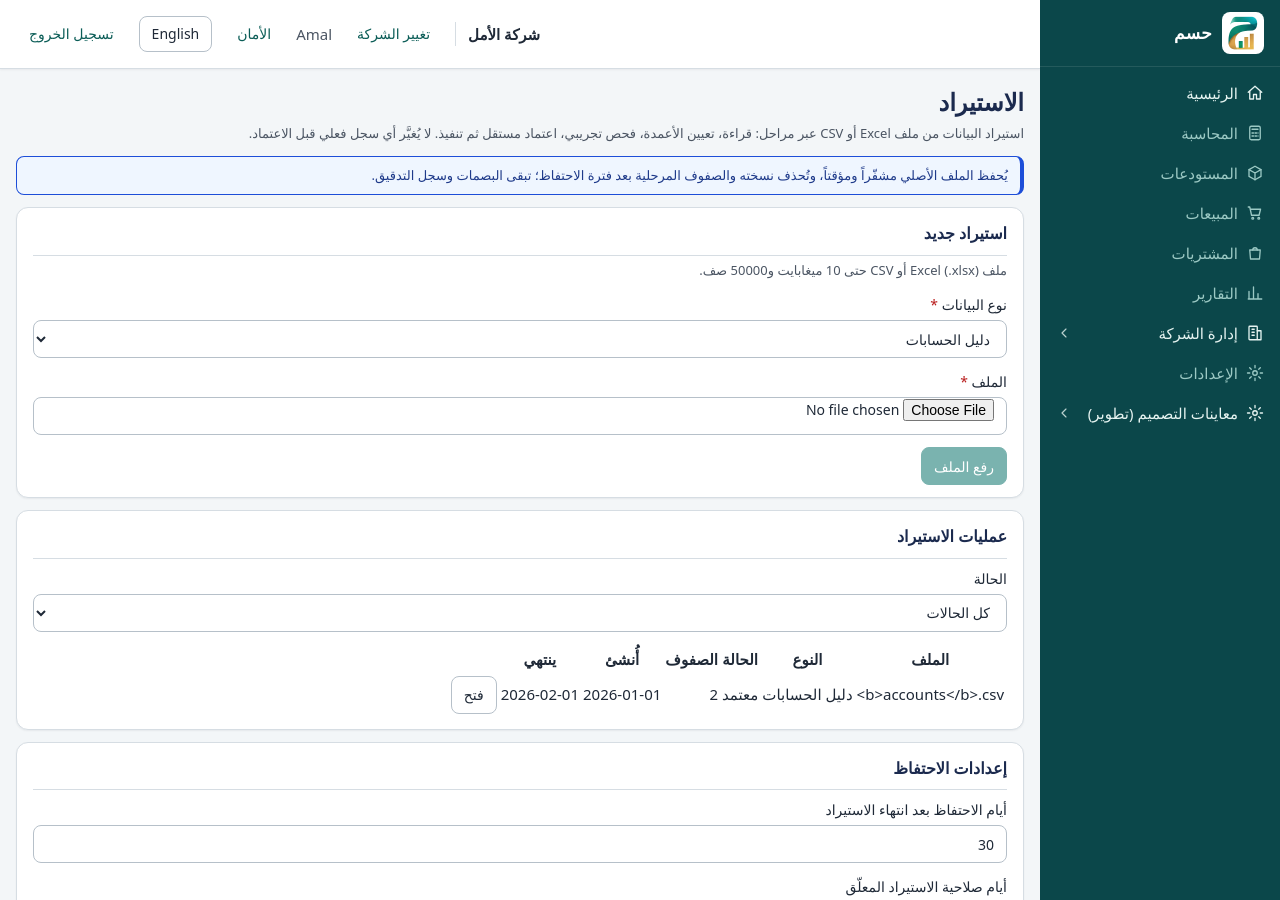
Scenario: imports screen › applying asks for confirmation, sends the revision it read and shows the translated refusal of a stale plan
This screenshot has width=1280, height=900.
Expected: the element with test id "company-name" is shown, [455, 22, 540, 46]
Step 1. Click the button "فتح" → (474, 695), box [451, 676, 497, 714]
(page scrolled)
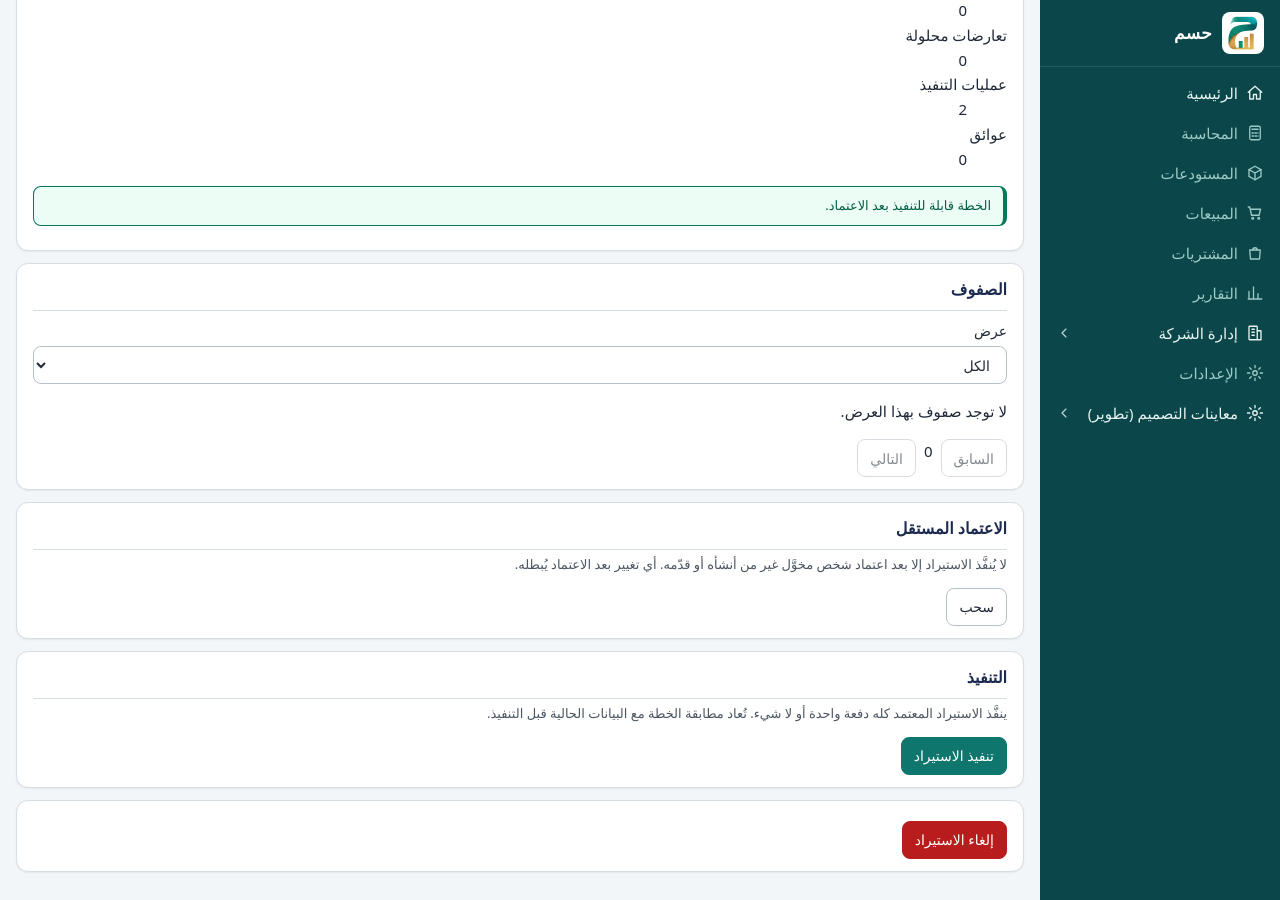
Step 2. Click the button with test id "imp-apply" → (954, 756), box [901, 737, 1007, 775]
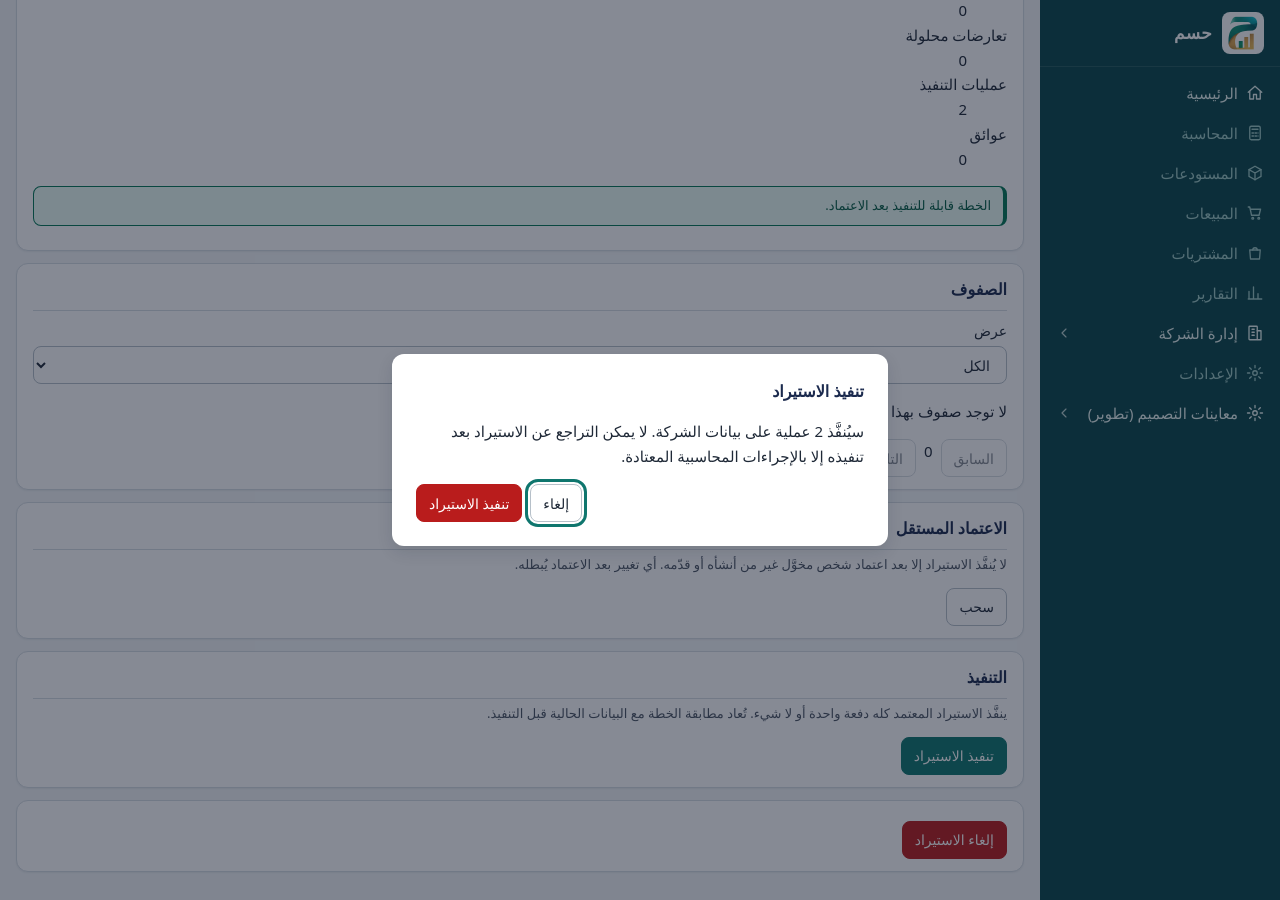
Step 3. Click the button "تنفيذ الاستيراد" → (469, 503), box [416, 484, 522, 522]
(page scrolled)
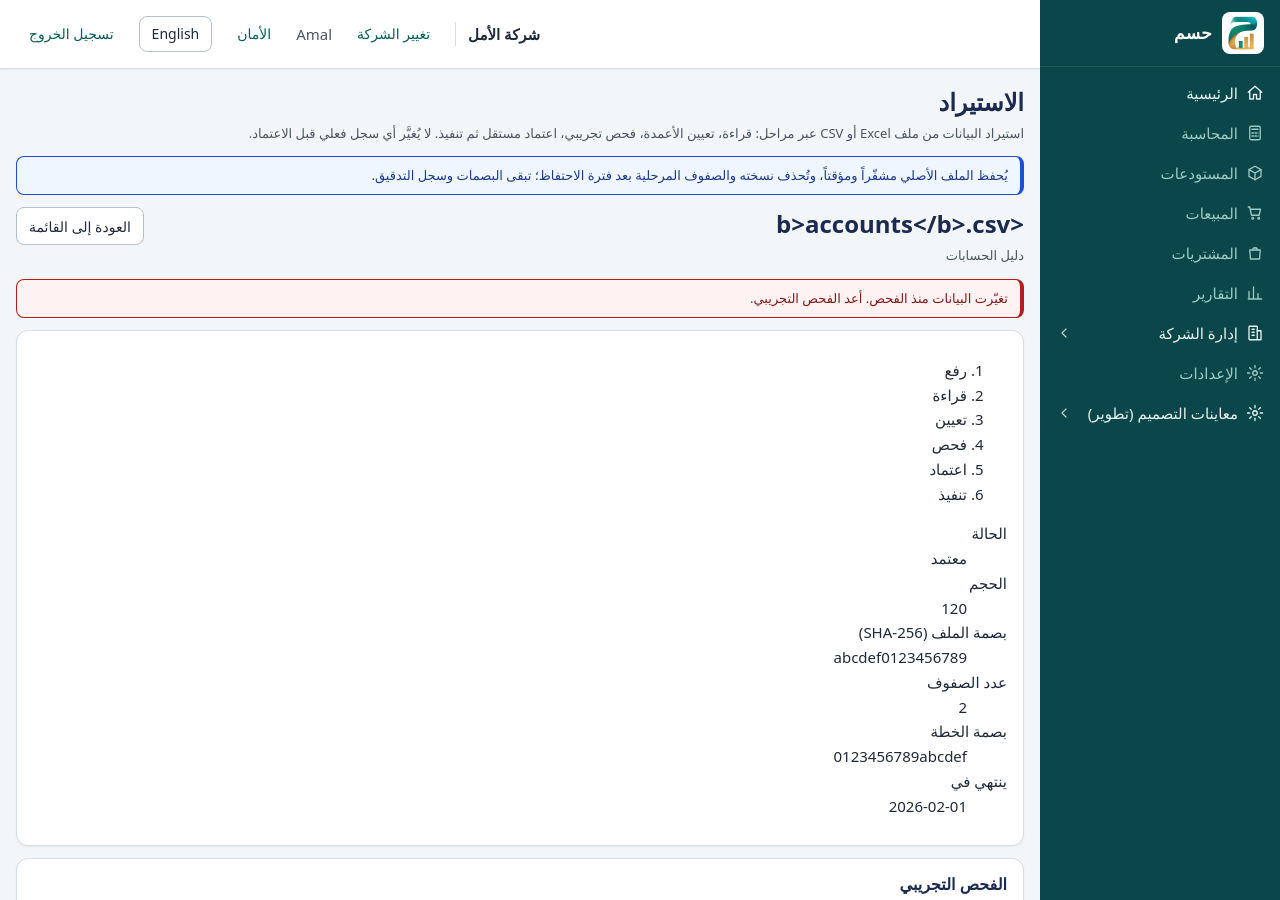
Expected: the message with test id "imp-error" reads "تغيّرت البيانات منذ الفحص. أعد الفحص التجريبي.", [750, 288, 1008, 306]
